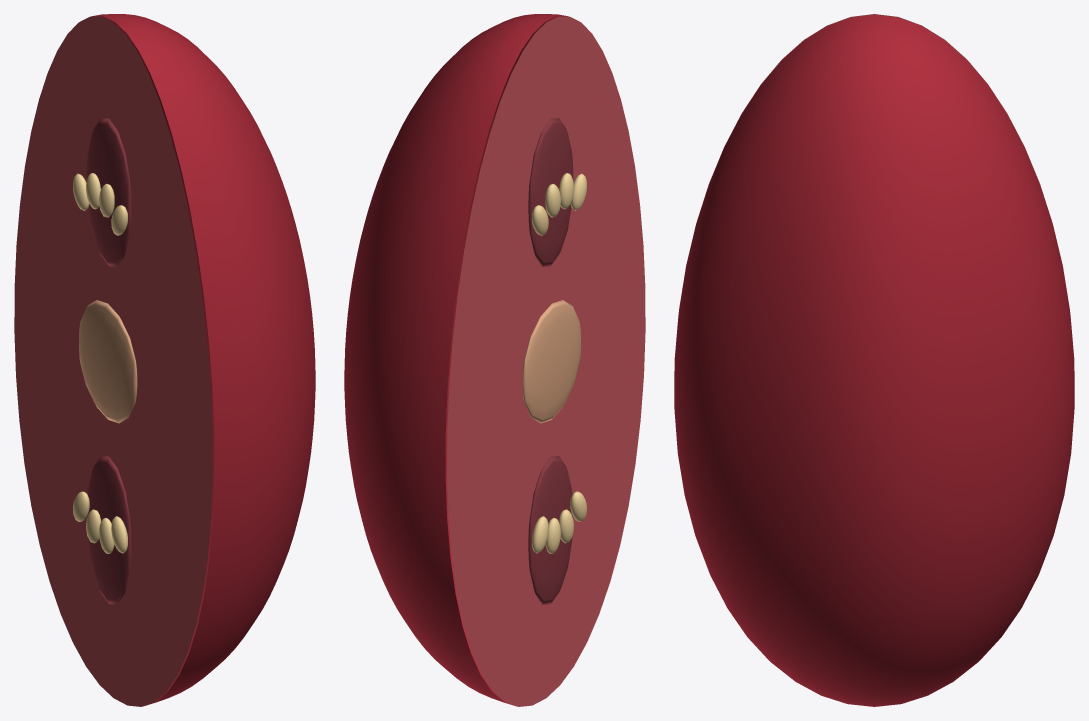
Rendered from grape_half.glb.
3 renders of one model, left to right at view 1: azimuth 30°, elevation 25°; view 2: azimuth 150°, elevation 25°; view 3: azimuth 270°, elevation 25°, orthographic.
Parts seen in each view (by area): view 1: Grape Grape translucent coral flesh, Grape Grape ruby waxed skin, Grape Two grape gel locules, Grape Grape narrow ivory pith, Grape Small ivory grape seeds; view 2: Grape Grape translucent coral flesh, Grape Grape ruby waxed skin, Grape Two grape gel locules, Grape Grape narrow ivory pith, Grape Small ivory grape seeds; view 3: Grape Grape ruby waxed skin, Grape Grape translucent coral flesh.
Boxes of the visible parts, left/top/right/bottom form: Grape Grape translucent coral flesh: left=14, top=16, right=212, bottom=706; Grape Grape ruby waxed skin: left=91, top=14, right=315, bottom=706; Grape Two grape gel locules: left=86, top=118, right=131, bottom=604; Grape Grape narrow ivory pith: left=79, top=300, right=137, bottom=423; Grape Small ivory grape seeds: left=73, top=173, right=127, bottom=553; Grape Grape translucent coral flesh: left=447, top=16, right=645, bottom=706; Grape Grape ruby waxed skin: left=344, top=14, right=568, bottom=706; Grape Two grape gel locules: left=528, top=118, right=573, bottom=604; Grape Grape narrow ivory pith: left=522, top=300, right=580, bottom=423; Grape Small ivory grape seeds: left=532, top=173, right=586, bottom=553; Grape Grape ruby waxed skin: left=674, top=14, right=1074, bottom=706; Grape Grape translucent coral flesh: left=679, top=14, right=1069, bottom=309.
Bounding box in the file's own units: 0.3984 × 1.28 × 0.6836.
